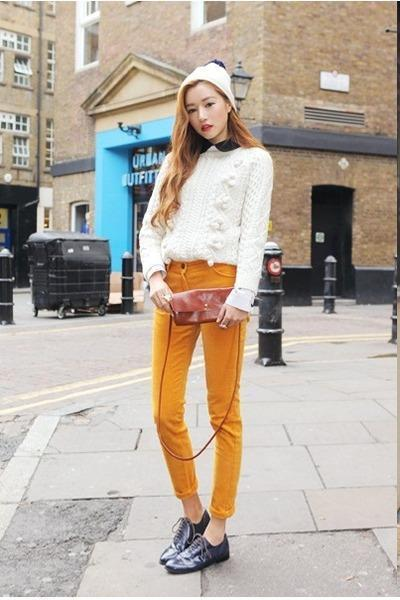bag: (165, 287, 228, 333)
hat: (204, 63, 233, 101)
pants: (152, 259, 249, 522)
shirt: (139, 146, 280, 312)
shoe: (180, 510, 228, 573)
